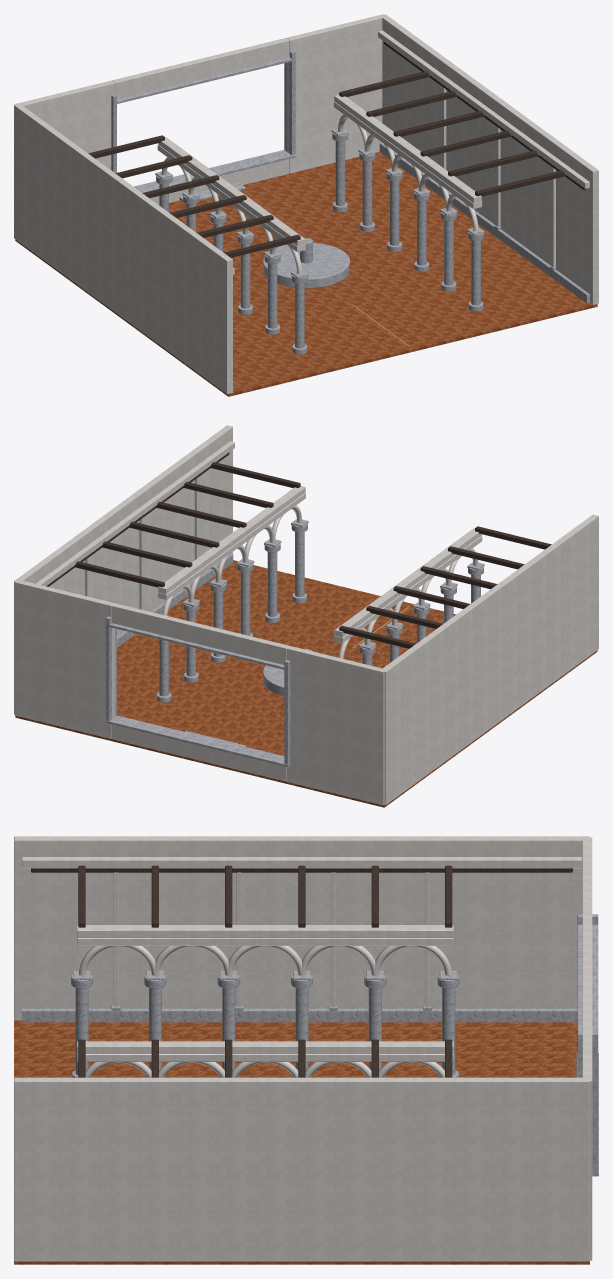
File: renaissance-lite.glb
3 views of the same model, one above another, from view 1: azimuth 30°, elevation 25°; view 2: azimuth 150°, elevation 25°; view 3: azimuth 270°, elevation 25° (orthographic). The views are drawn at different scales.
Visible parts, largest first — view 1: Terracotta loggia floor, West limewash wall, East limewash wall, North plaster wing 1, North plaster wing -1, North plaster window lintel, Fountain basin, Gallery plaster frieze 1, Gallery marble plinth 1, Arcade supporting frieze 1, Arcade supporting frieze -1, North plaster below window (+26 smaller); view 2: West limewash wall, Terracotta loggia floor, North plaster wing 1, North plaster wing -1, East limewash wall, North plaster window lintel, North plaster below window, Gallery plaster frieze 1, Landscape stone sill, Arcade supporting frieze 1, Arcade supporting frieze -1, Arcade entablature 1 (+22 smaller); view 3: East limewash wall, West limewash wall, Terracotta loggia floor, Gallery marble plinth -1, Gallery plaster frieze -1, Arcade supporting frieze -1, Arcade supporting frieze 1, Arcade entablature -1, Arcade entablature 1, Gallery wall cornice -1, Landscape stone lintel, North plaster window lintel (+17 smaller).
Part boxes in pixels (x1,y1,x2,y2): Terracotta loggia floor: [15, 152, 597, 396]; West limewash wall: [14, 103, 232, 394]; East limewash wall: [380, 14, 598, 304]; North plaster wing 1: [286, 14, 383, 173]; North plaster wing -1: [14, 80, 115, 169]; North plaster window lintel: [112, 38, 289, 99]; Fountain basin: [263, 242, 349, 288]; Gallery plaster frieze 1: [378, 30, 589, 188]; Gallery marble plinth 1: [379, 142, 589, 303]; Arcade supporting frieze 1: [334, 95, 481, 203]; Arcade supporting frieze -1: [158, 137, 305, 246]; North plaster below window: [150, 159, 289, 204]; West limewash wall: [380, 514, 598, 804]; Terracotta loggia floor: [15, 560, 597, 807]; North plaster wing 1: [14, 580, 115, 738]; North plaster wing -1: [286, 646, 384, 805]; East limewash wall: [14, 425, 232, 714]; North plaster window lintel: [112, 603, 289, 664]; North plaster below window: [112, 724, 286, 781]; Gallery plaster frieze 1: [36, 441, 234, 586]; Landscape stone sill: [105, 715, 290, 767]; Arcade supporting frieze 1: [158, 486, 305, 594]; Arcade supporting frieze -1: [334, 528, 481, 637]; Arcade entablature 1: [157, 493, 305, 599]; East limewash wall: [14, 1077, 589, 1261]; West limewash wall: [14, 836, 589, 1020]; Terracotta loggia floor: [14, 1020, 589, 1264]; Gallery marble plinth -1: [22, 1008, 577, 1022]; Gallery plaster frieze -1: [22, 857, 582, 868]; Arcade supporting frieze -1: [77, 925, 453, 937]; Arcade supporting frieze 1: [77, 1041, 453, 1053]; Arcade entablature -1: [77, 938, 453, 945]; Arcade entablature 1: [77, 1054, 453, 1061]; Gallery wall cornice -1: [31, 868, 572, 872]; Landscape stone lintel: [577, 924, 598, 1045]; North plaster window lintel: [582, 901, 592, 1016].
Bounding box in the file's own units: 22.18 × 7.76 × 22.34.
Materials: 5 (4 with a texture image).
